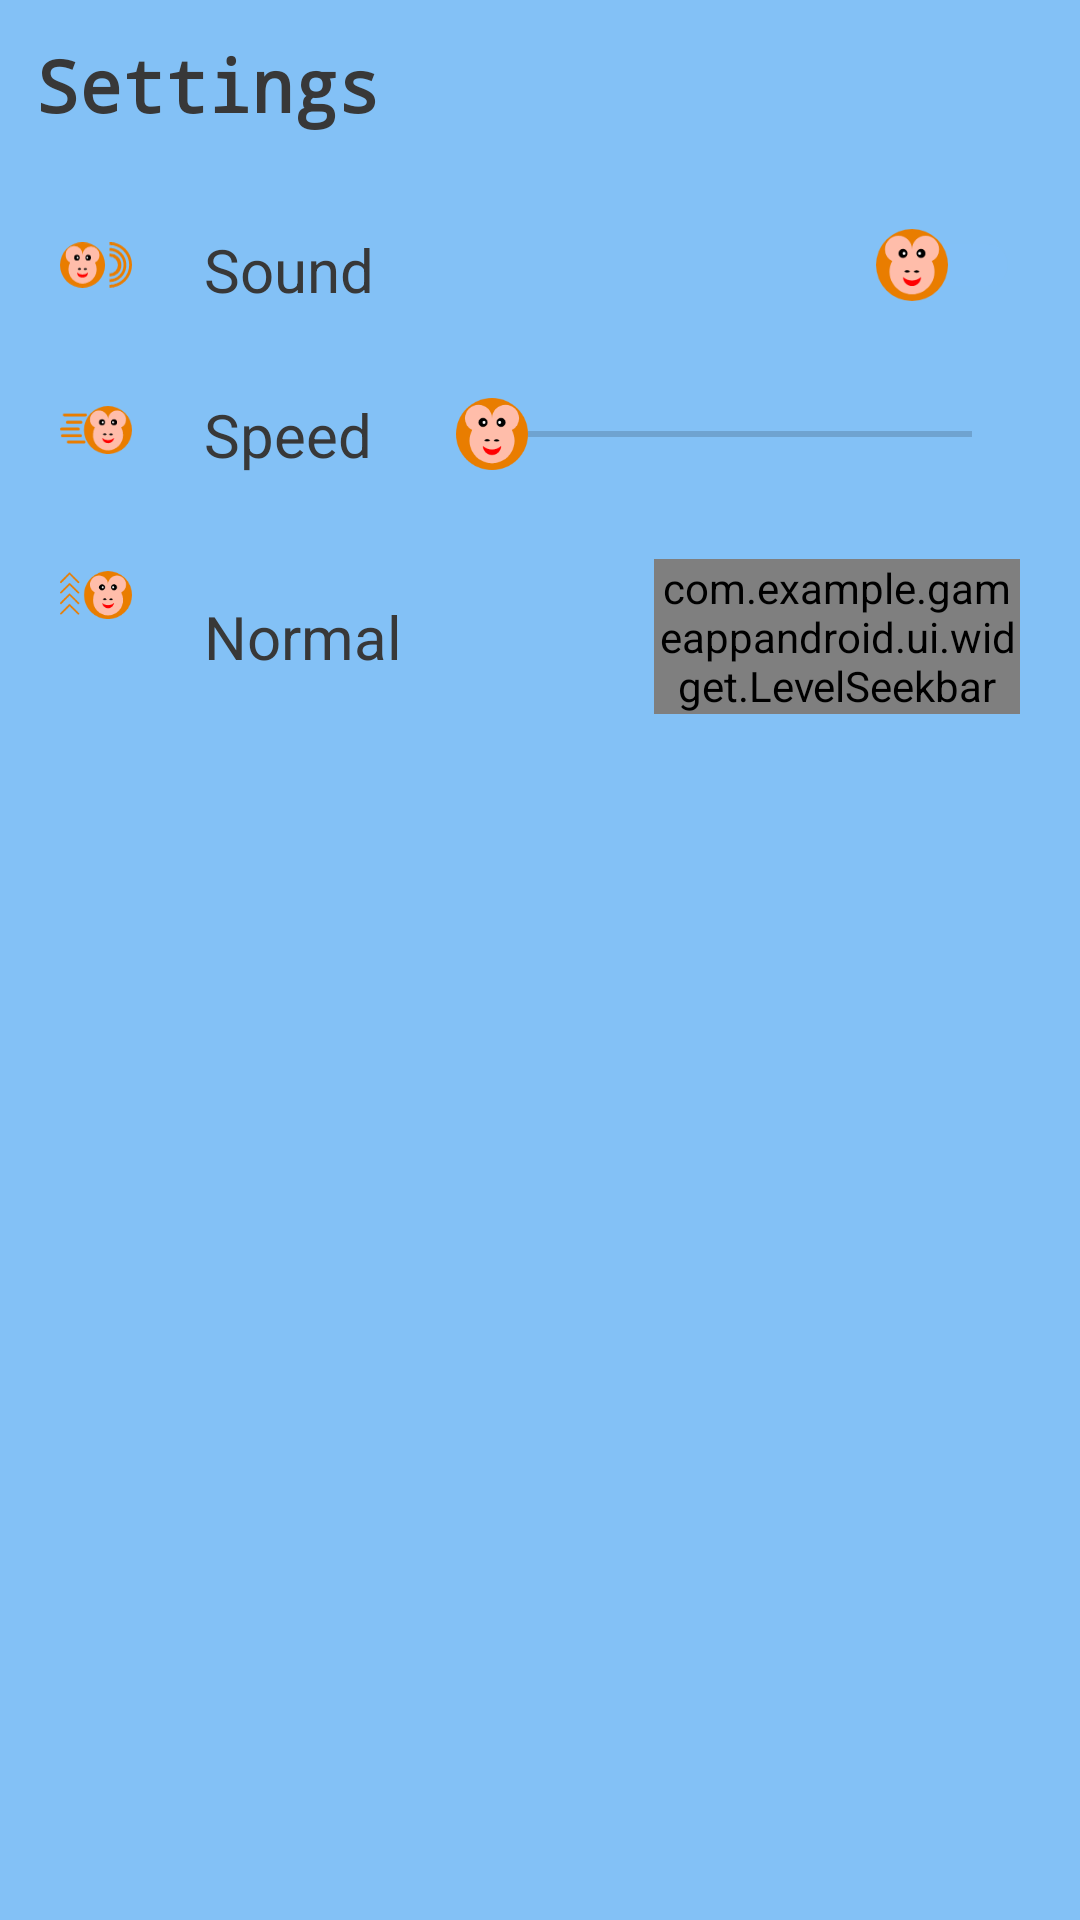

Named icons in this screenshot (1080x1920) and their bounding boxes, box(x1, y1, x2, y2):
level: box(60, 571, 132, 619)
